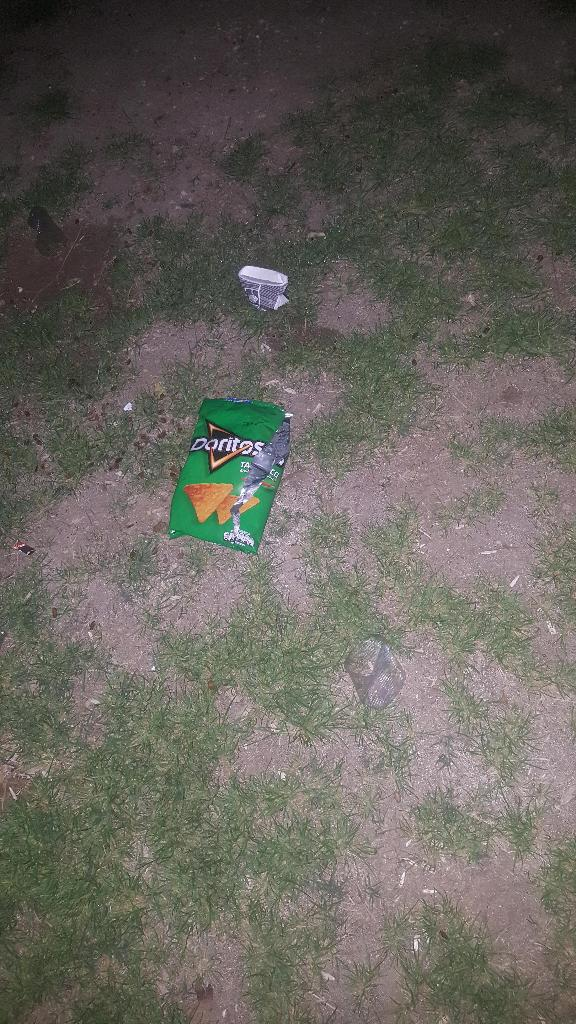garbage: (161, 381, 305, 568), (169, 398, 291, 553), (230, 254, 307, 325), (238, 265, 289, 310)
